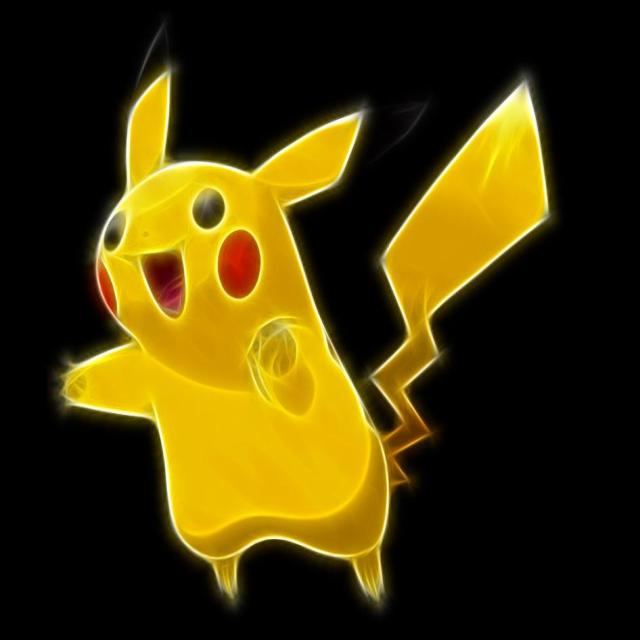pikachu: (64, 27, 556, 601)
